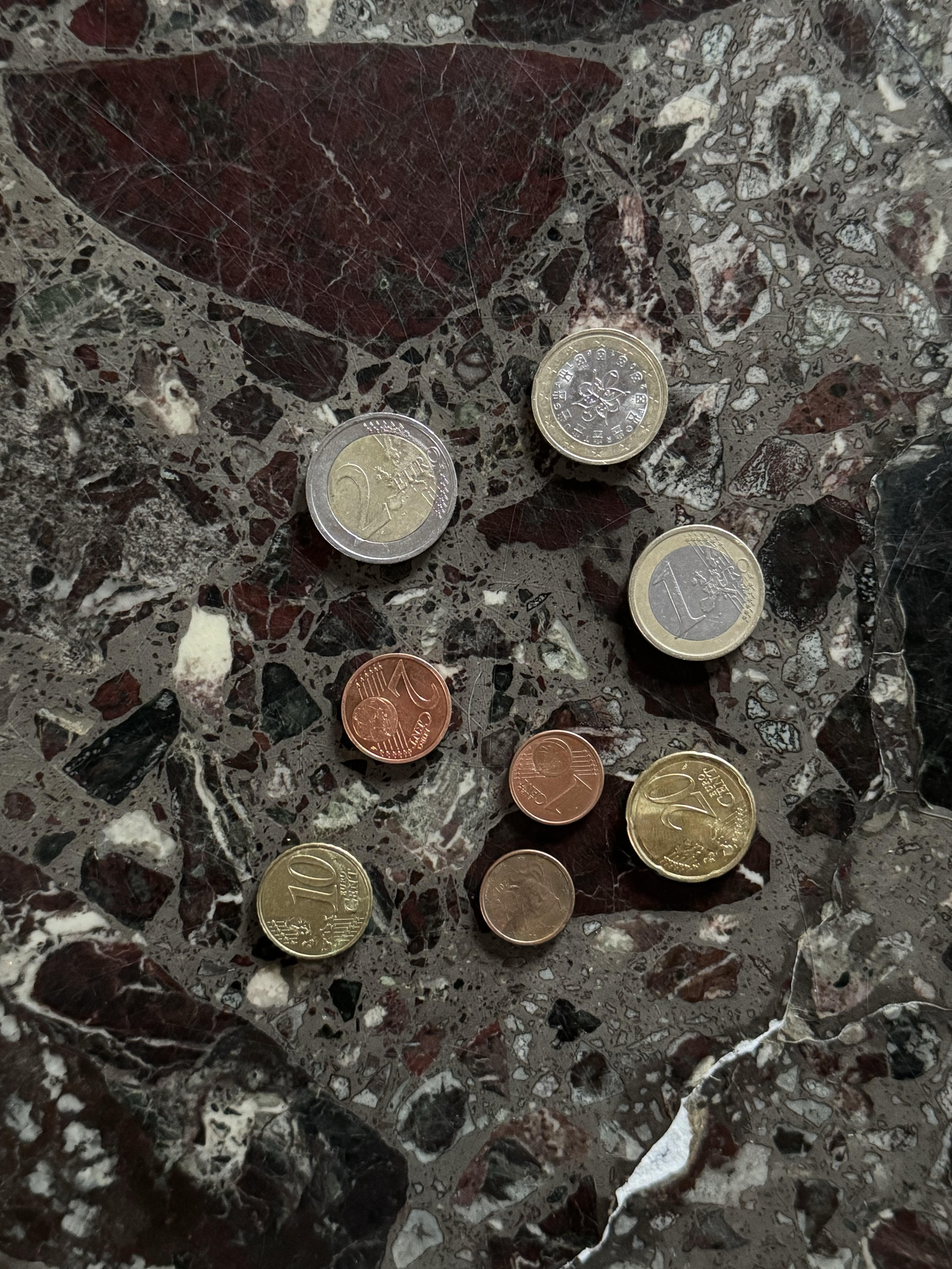1 cent: (503, 726, 609, 834), (476, 848, 579, 950)
1 euro: (620, 522, 770, 674), (533, 328, 670, 470)
10 cent: (247, 839, 383, 964)
2 cent: (335, 648, 456, 761), (333, 755, 337, 762)
2 euro: (306, 413, 458, 564)
20 cent: (623, 750, 756, 880)
